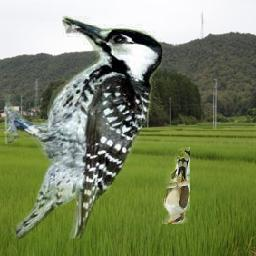Cuckoo: (162, 148, 190, 225)
Woodpecker: (4, 15, 162, 239)
